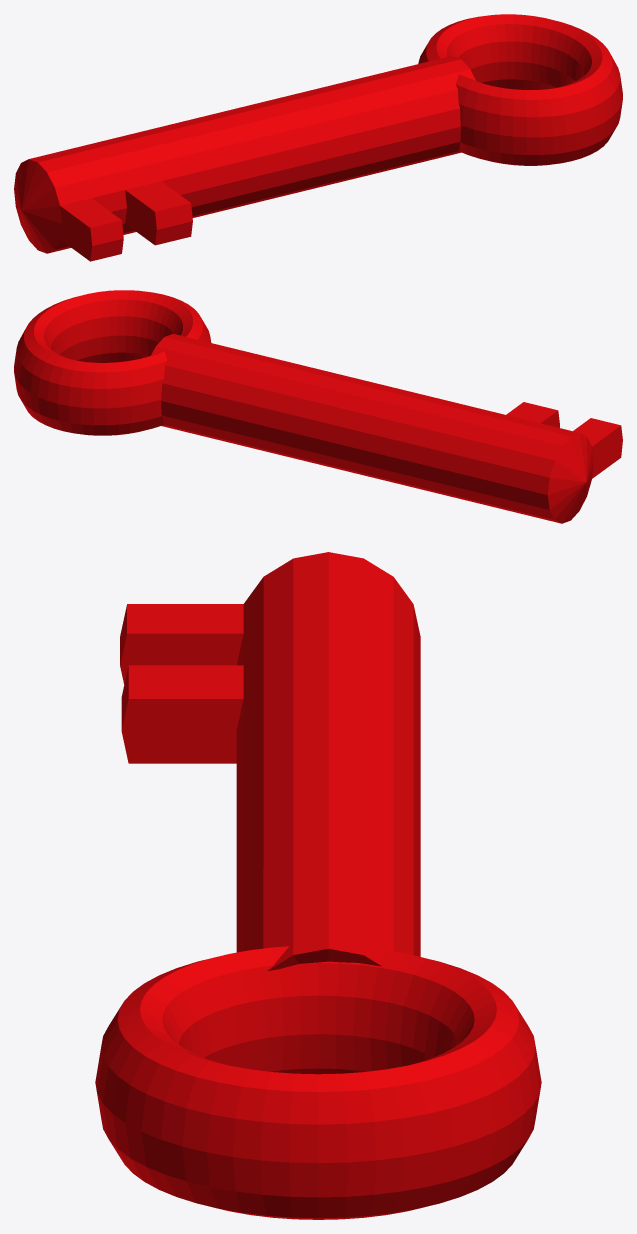
The model's file is RedKey.fbx.
The picture shows the model from 3 angles, top to bottom: view 1: azimuth 30°, elevation 25°; view 2: azimuth 150°, elevation 25°; view 3: azimuth 270°, elevation 25°; orthographic projection. The views are drawn at different scales.
Parts seen in each view (by area): view 1: RedKey; view 2: RedKey; view 3: RedKey.
Part boxes in pixels (x1,y1,x2,y2): RedKey: (14,14,622,261); RedKey: (14,290,622,523); RedKey: (95,552,541,1219).
Bounding box in the file's own units: 2.25 × 0.3256 × 0.7801.
